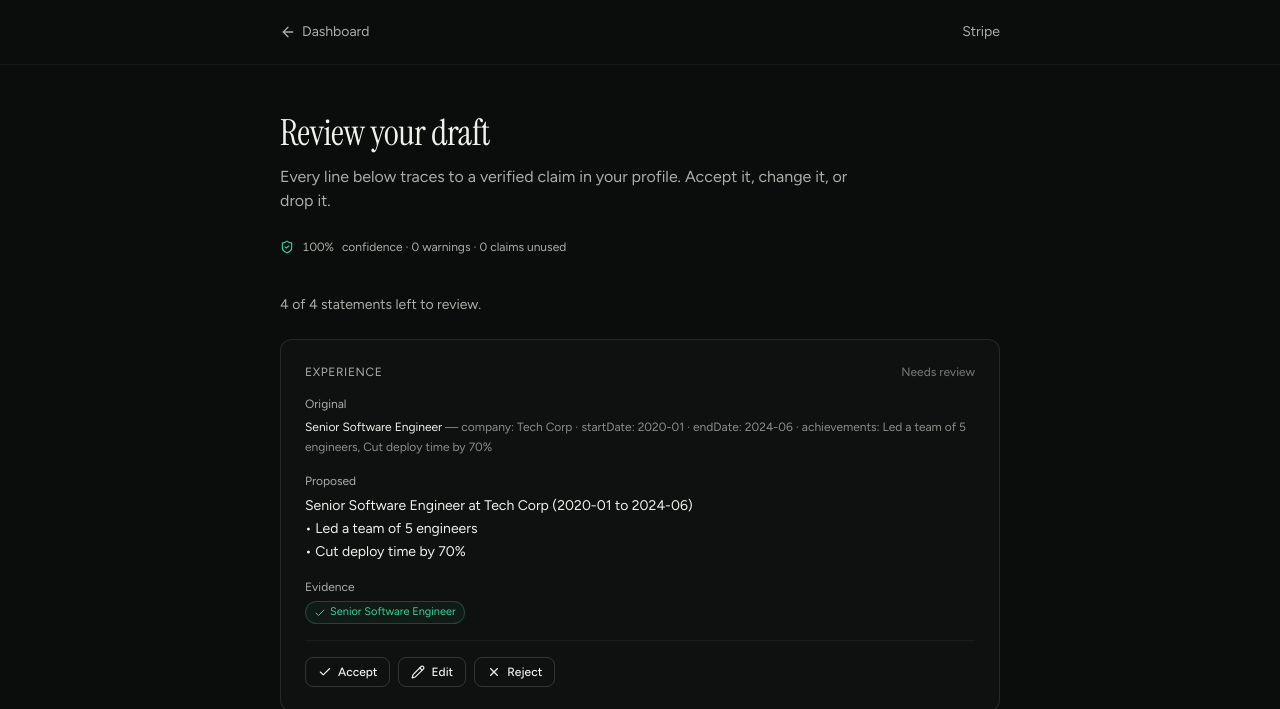
Test case: TailorPage › saves edit via Cmd+Enter shortcut
Step 1. Click the button with aria-label "Edit experience statement" → (432, 672), box x1=398 y1=657 x2=466 y2=687
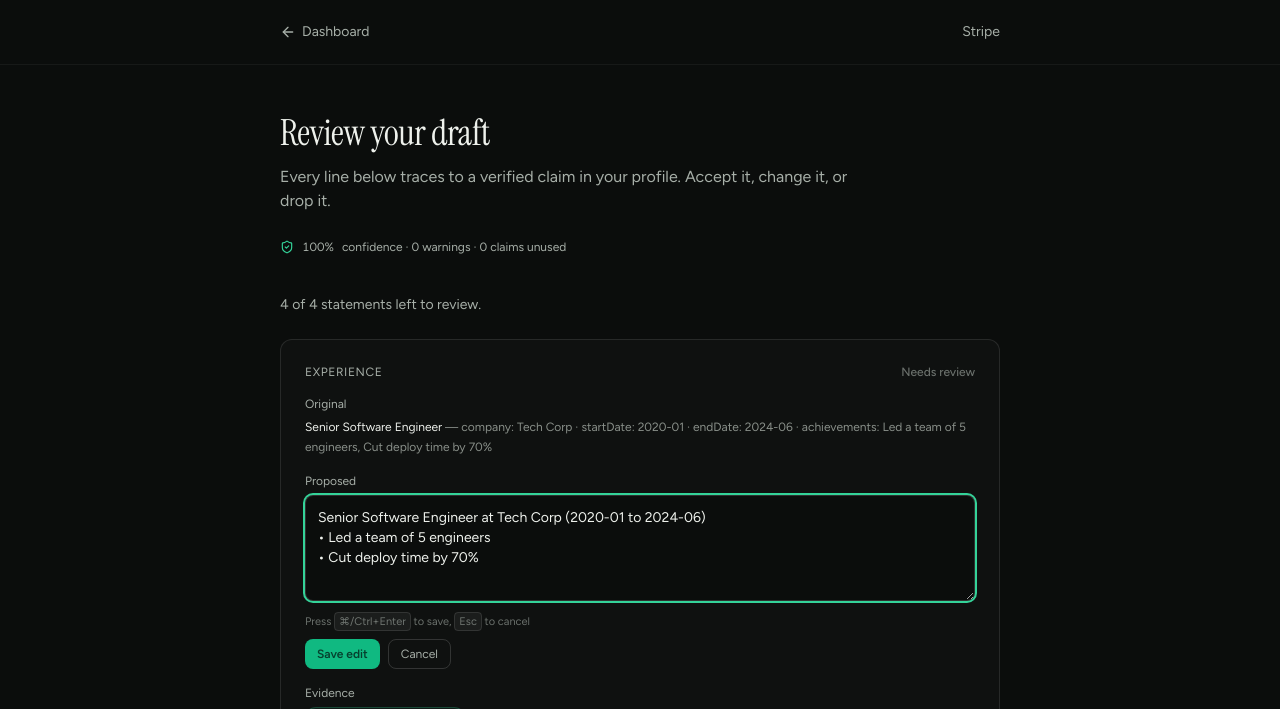
Step 2. Replace the text in the text box named "Edit proposed experience statement" with "Saved via shortcut." → (640, 548), box x1=305 y1=495 x2=975 y2=601
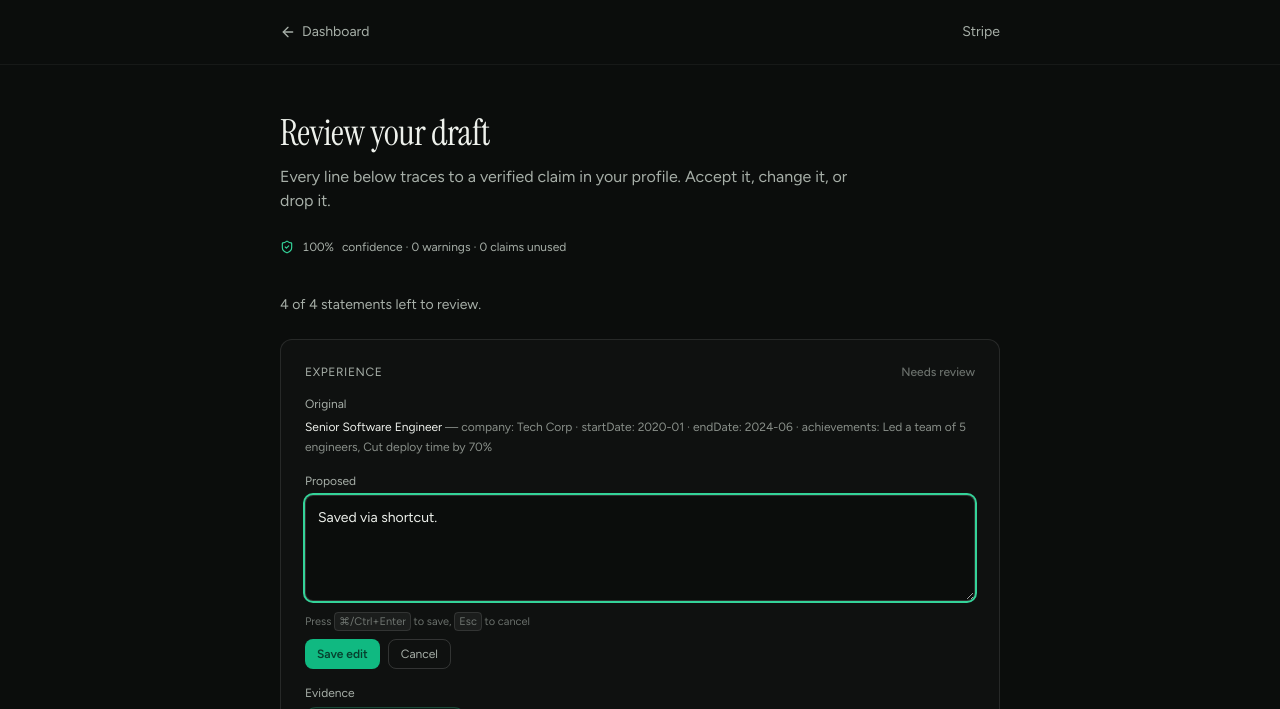
Step 3. Press Enter in the text box named "Edit proposed experience statement", box x1=305 y1=495 x2=975 y2=601
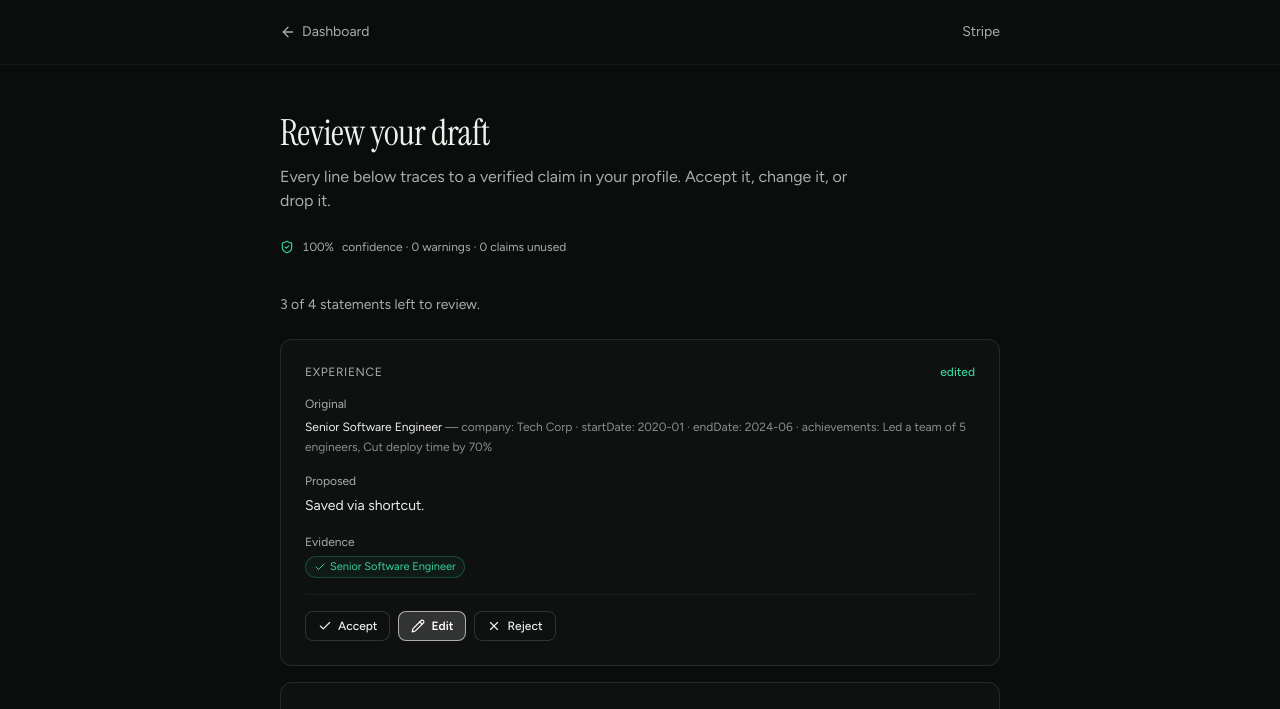
Now the text "Saved via shortcut." is shown, box x1=305 y1=497 x2=424 y2=514
Now the text "edited" is shown, box x1=940 y1=364 x2=975 y2=380
